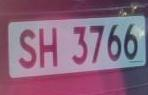3: (69, 22, 90, 68)
6: (105, 20, 123, 63), (122, 21, 139, 62)
7: (86, 21, 106, 66)
H: (38, 21, 62, 76)
S: (16, 23, 40, 77)
